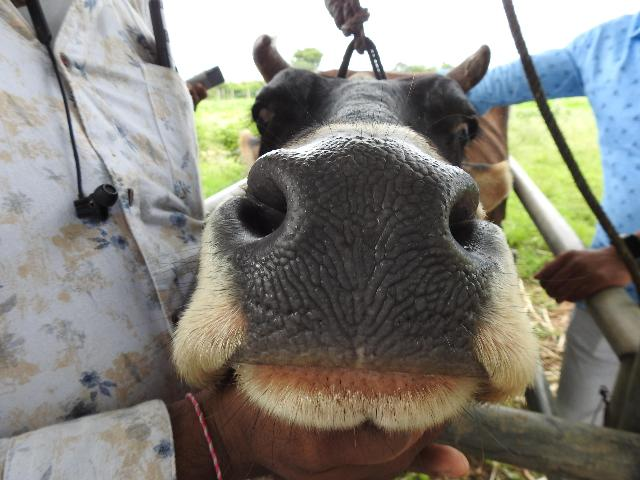Muzzle: (254, 155, 471, 368)
